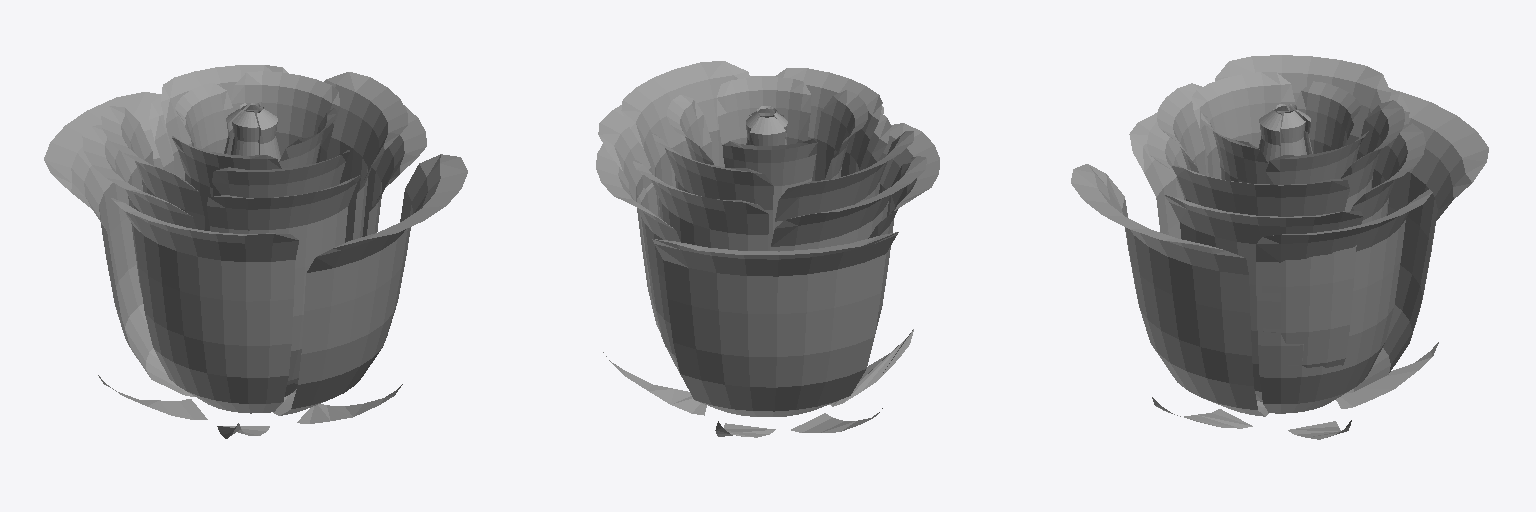
The model's file is rose.obj.
The picture shows the model from 3 angles: view 1: azimuth 30°, elevation 25°; view 2: azimuth 150°, elevation 25°; view 3: azimuth 270°, elevation 25°; orthographic projection.
Visible parts, largest first — view 1: object.001; view 2: object.001; view 3: object.001.
Part boxes in pixels (x1,y1,x2,y2): object.001: (44,65,467,438); object.001: (596,61,939,437); object.001: (1071,55,1488,439).
Bounding box in the file's own units: 4.83 × 4.2 × 5.4.